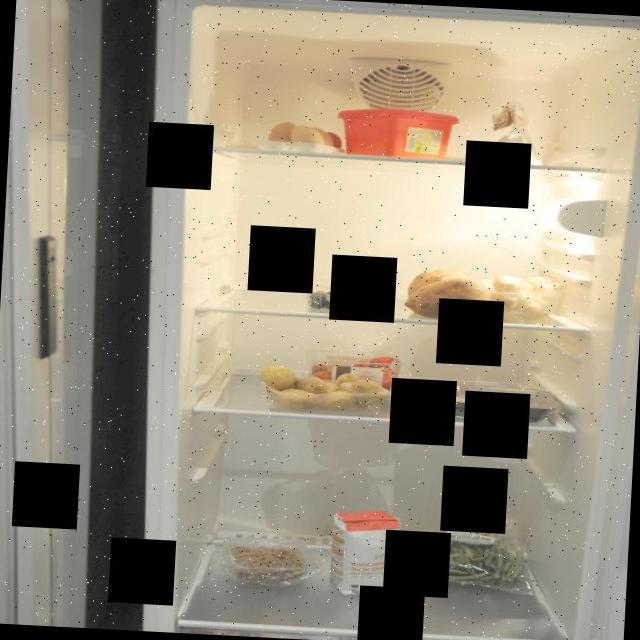Carne pollo: (388, 382, 530, 420)
Champiñones: (447, 272, 549, 322)
Gambas/Langostinos: (226, 539, 312, 587)
Huevos: (268, 120, 345, 154)
Mantequilla: (338, 104, 462, 160)
Patata: (258, 365, 394, 417)
